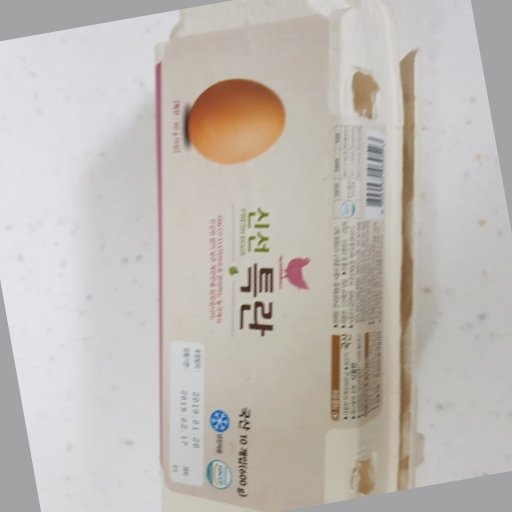Paper_0: (153, 1, 427, 512)
